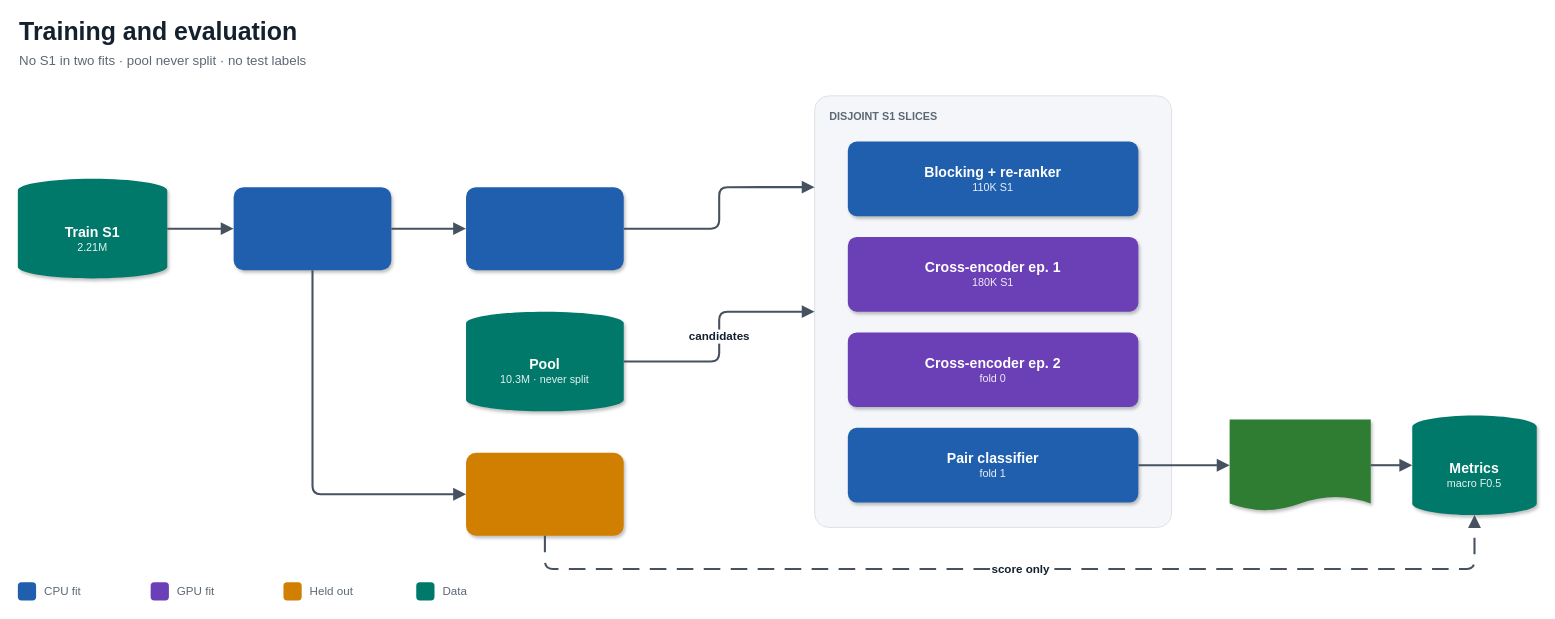
Image size: 1555x619. Some labels were removed from this diagram. Each missing label, with the centre of its shape:
"Model matcher.json" goes at (x=1300, y=466).
"Split 80 / 20 · stratified" goes at (x=313, y=229).
"Train S1 1.77M" goes at (x=545, y=229).
"Validation S1 441K · score only" goes at (x=545, y=495).
